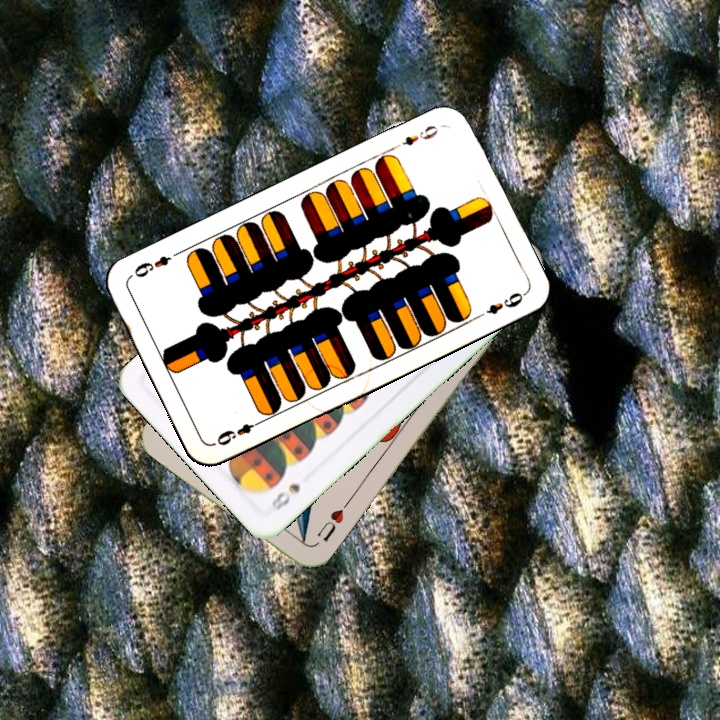E9: (212, 416, 266, 449), (398, 121, 441, 149)
HU: (312, 505, 347, 545)
S8: (268, 479, 303, 514)
